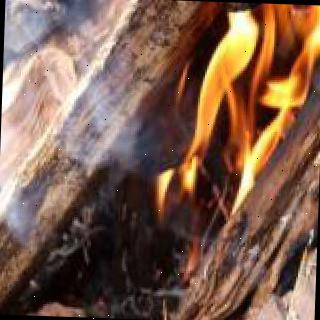fire: (146, 0, 320, 255)
